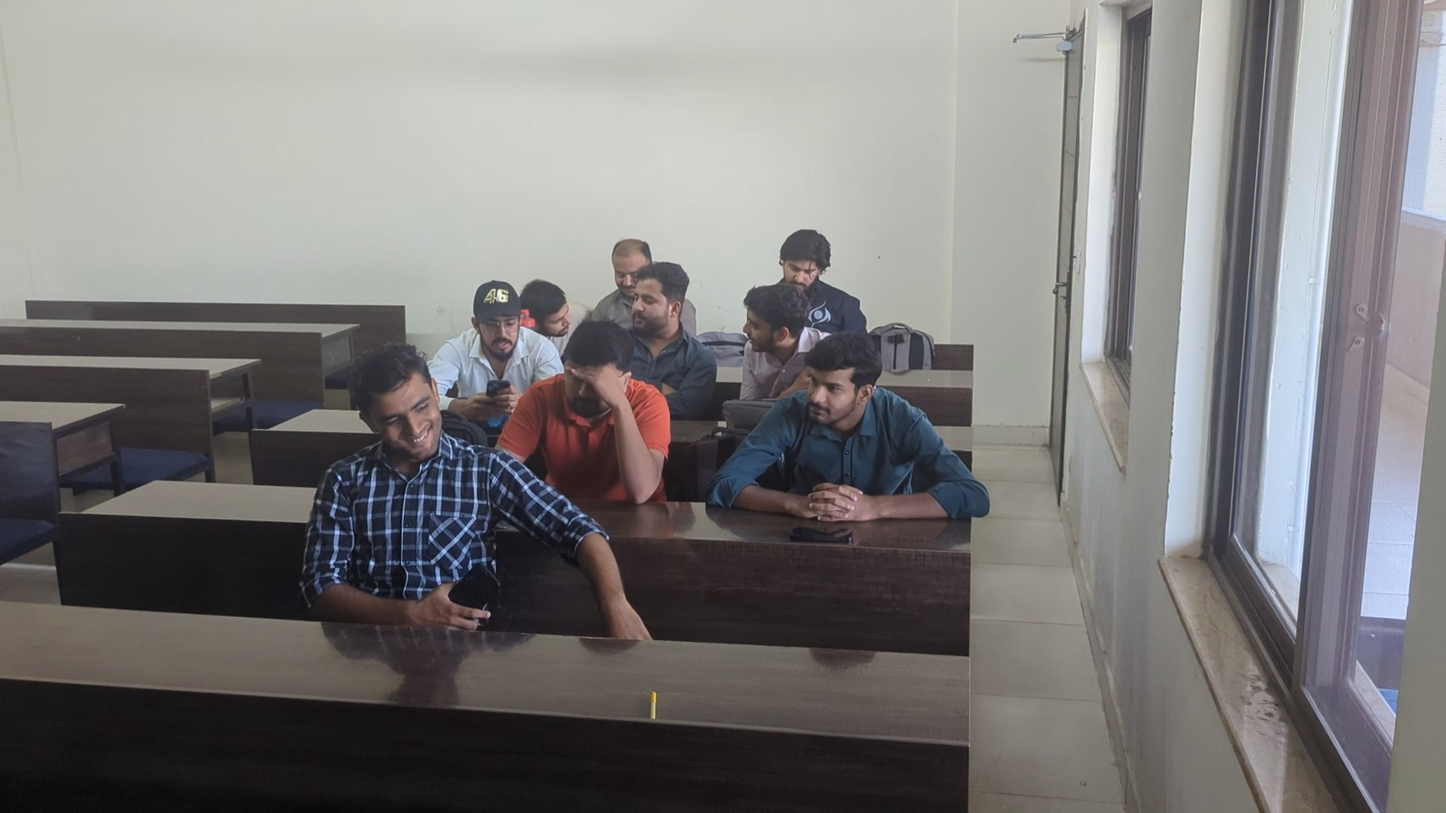look_forward: (720, 334, 1001, 523)
sleep: (495, 315, 691, 510)
turn_head: (296, 344, 569, 622), (724, 268, 825, 372), (613, 269, 720, 359), (759, 234, 849, 297), (513, 269, 594, 338), (608, 234, 651, 302)
write: (431, 272, 551, 409)
